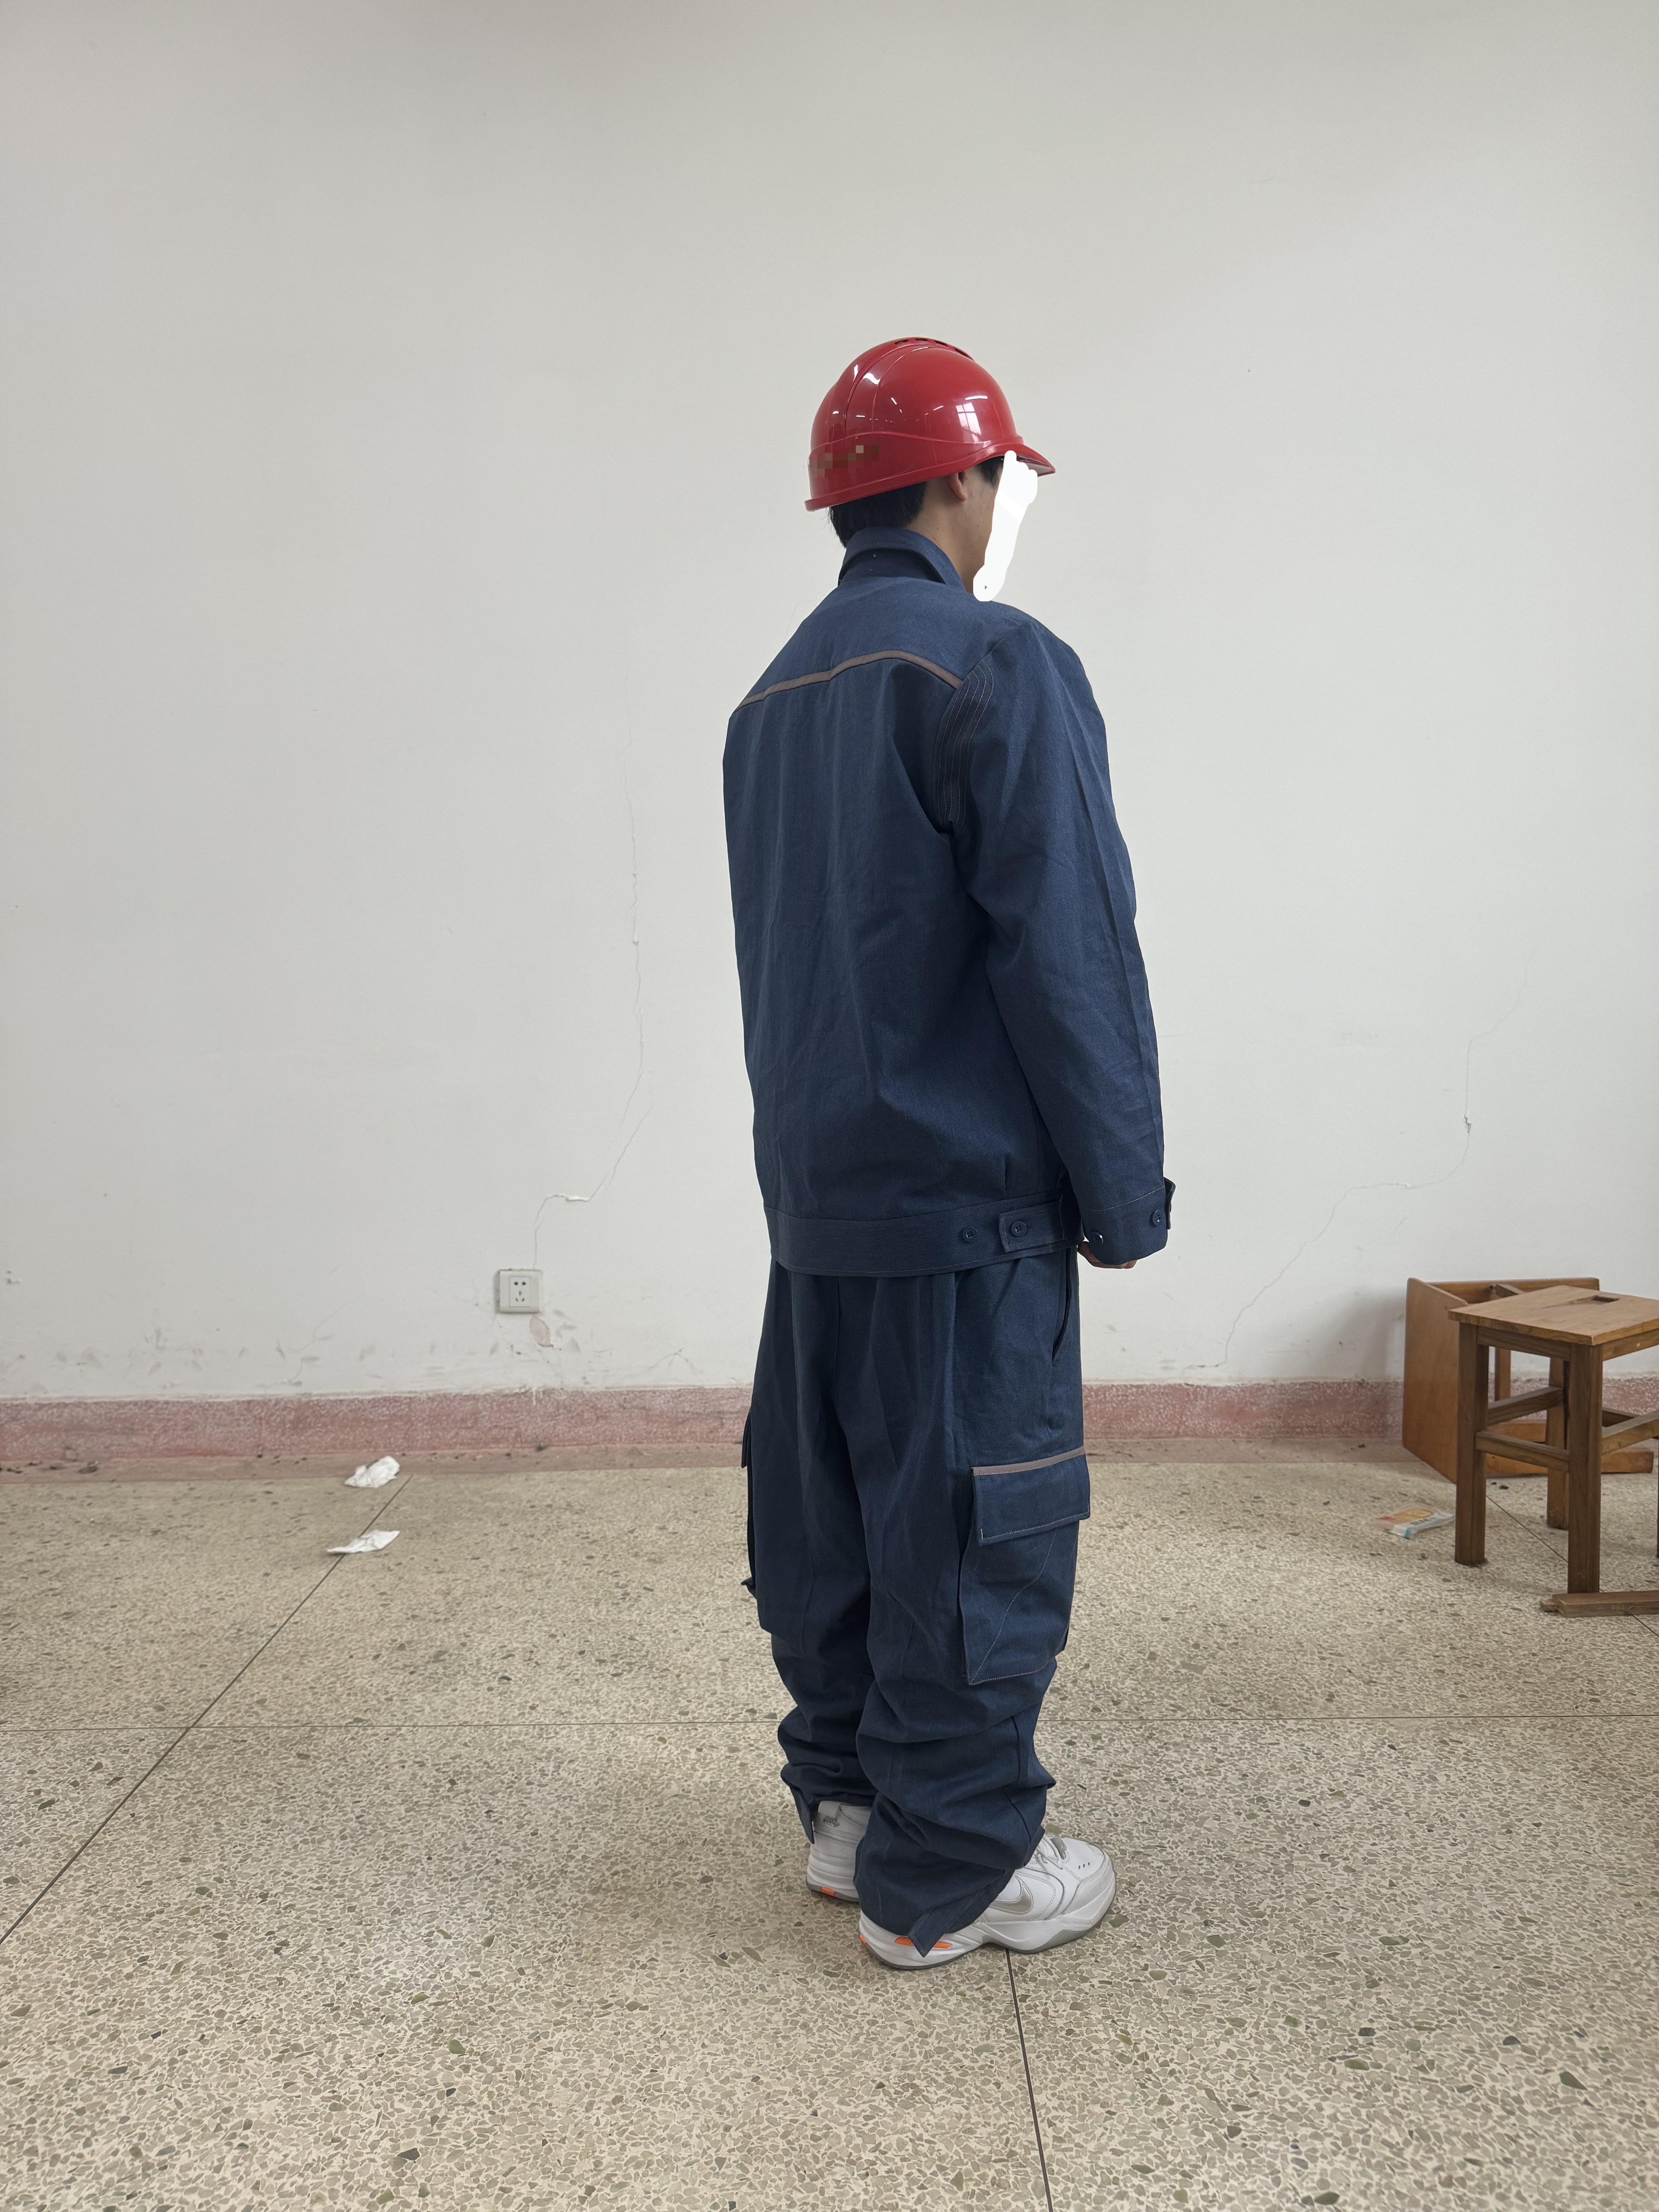halt: (793, 334, 1060, 603)
noear: (929, 460, 1004, 559)
